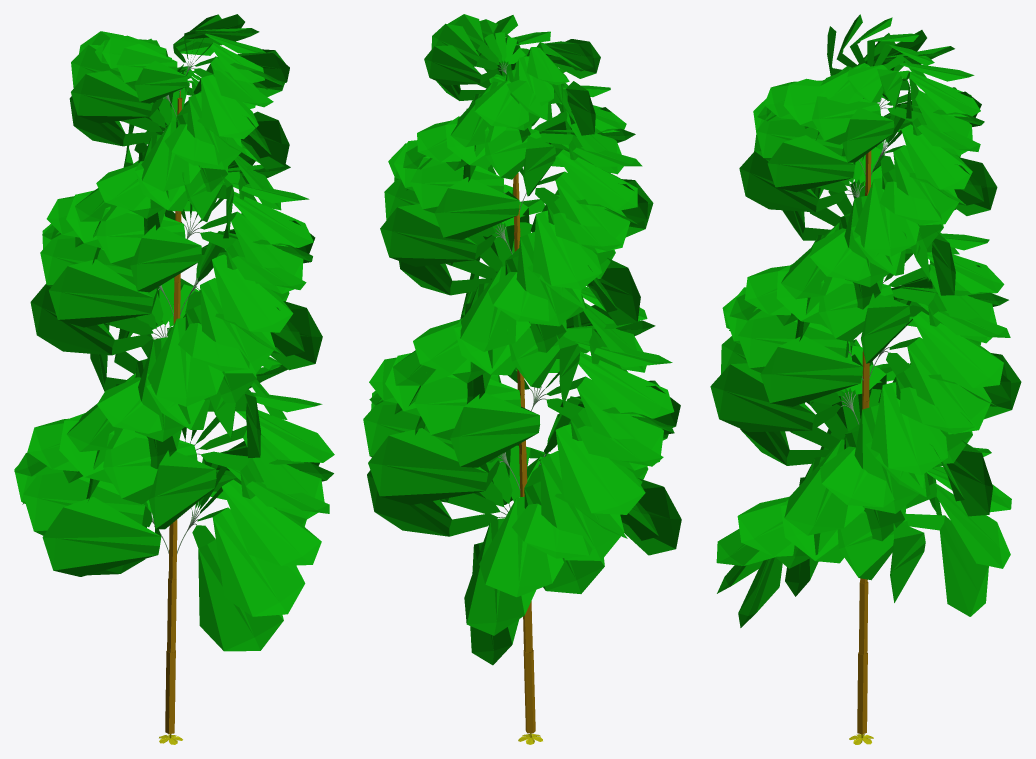
The model's file is tree.dae.
The picture shows the model from 3 angles, left to right: view 1: azimuth 30°, elevation 25°; view 2: azimuth 150°, elevation 25°; view 3: azimuth 270°, elevation 25°; orthographic projection.
Visible parts, largest first — view 1: Ne_Leaf, Ne_Leaf_010, Ne_Leaf_063, Ne_Leaf_008, Ne_Leaf_012, Ne_Leaf_002, Ne_Leaf_061, Ne_Leaf_054, Ne_Leaf_021, Ne_Leaf_042, Ne_Leaf_070, Ne_Leaf_112 (+59 smaller); view 2: Ne_Leaf_014, Ne_Leaf_026, Ne_Leaf_035, Ne_Leaf_005, Ne_Leaf_077, Ne_Leaf_084, Ne_Leaf_024, Ne_Leaf_075, Ne_Leaf_033, Ne_Leaf_003, Ne_Leaf_037, Ne_Leaf_007 (+58 smaller); view 3: Ne_Leaf_049, Ne_Leaf_028, Ne_Leaf_040, Ne_Leaf_047, Ne_Leaf_001, Ne_Leaf_098, Ne_Leaf_019, Ne_Leaf_045, Ne_Leaf_003, Ne_Leaf_051, Ne_Leaf_089, Ne_Leaf_020 (+62 smaller).
Part boxes in pixels (bbox=[...]): Ne_Leaf: bbox=[42, 497, 161, 576]; Ne_Leaf_010: bbox=[197, 507, 305, 616]; Ne_Leaf_063: bbox=[48, 259, 157, 327]; Ne_Leaf_008: bbox=[192, 525, 283, 651]; Ne_Leaf_012: bbox=[199, 479, 321, 565]; Ne_Leaf_002: bbox=[23, 472, 151, 535]; Ne_Leaf_061: bbox=[197, 254, 293, 332]; Ne_Leaf_054: bbox=[147, 318, 223, 406]; Ne_Leaf_021: bbox=[149, 450, 216, 529]; Ne_Leaf_042: bbox=[30, 283, 151, 355]; Ne_Leaf_070: bbox=[130, 225, 201, 292]; Ne_Leaf_112: bbox=[71, 70, 163, 123]; Ne_Leaf_014: bbox=[368, 428, 499, 505]; Ne_Leaf_026: bbox=[544, 424, 645, 514]; Ne_Leaf_035: bbox=[450, 393, 540, 467]; Ne_Leaf_005: bbox=[479, 496, 563, 597]; Ne_Leaf_077: bbox=[380, 204, 495, 266]; Ne_Leaf_084: bbox=[434, 177, 519, 239]; Ne_Leaf_024: bbox=[538, 451, 624, 560]; Ne_Leaf_075: bbox=[530, 210, 602, 289]; Ne_Leaf_033: bbox=[544, 351, 674, 418]; Ne_Leaf_003: bbox=[464, 518, 535, 635]; Ne_Leaf_037: bbox=[414, 374, 520, 440]; Ne_Leaf_007: bbox=[367, 470, 498, 536]; Ne_Leaf_049: bbox=[760, 335, 862, 406]; Ne_Leaf_028: bbox=[710, 363, 840, 432]; Ne_Leaf_040: bbox=[871, 382, 947, 475]; Ne_Leaf_047: bbox=[891, 311, 1003, 388]; Ne_Leaf_001: bbox=[905, 513, 988, 616]; Ne_Leaf_098: bbox=[767, 135, 855, 192]; Ne_Leaf_019: bbox=[784, 439, 864, 535]; Ne_Leaf_045: bbox=[889, 337, 991, 434]; Ne_Leaf_003: bbox=[906, 483, 1010, 568]; Ne_Leaf_051: bbox=[738, 308, 848, 372]; Ne_Leaf_089: bbox=[854, 178, 919, 256]; Ne_Leaf_020: bbox=[820, 446, 894, 507].
Bounding box in the file's own units: 3.66 × 3.42 × 8.53.
